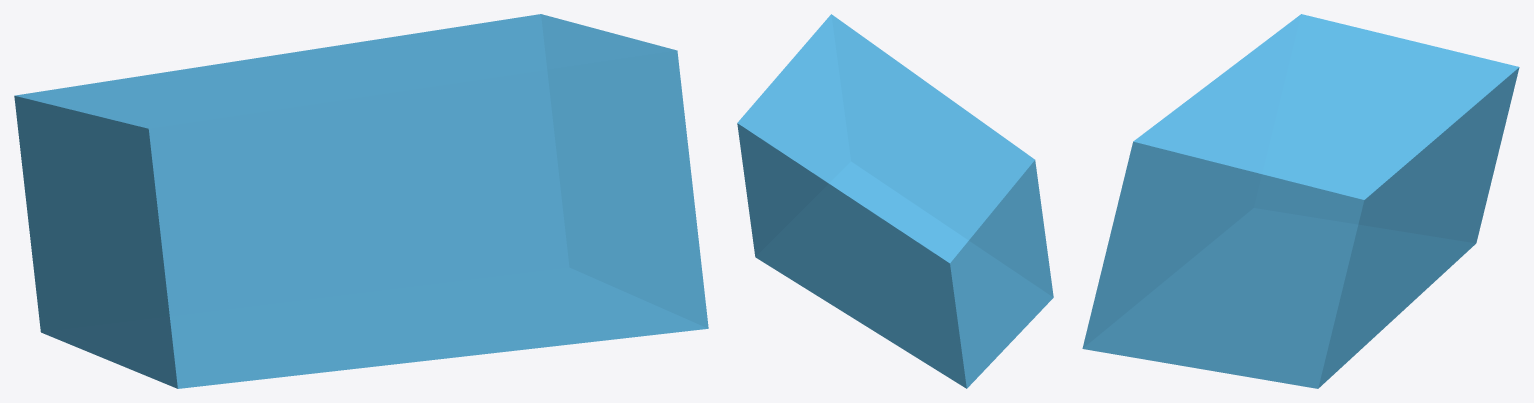
The model's file is Event_420604493_HErechit_40.fbx.
The picture shows the model from 3 angles, left to right: view 1: azimuth 30°, elevation 25°; view 2: azimuth 150°, elevation 25°; view 3: azimuth 270°, elevation 25°; orthographic projection. The views are drawn at different scales.
Visible parts, largest first — view 1: Model; view 2: Model; view 3: Model.
Boxes of the visible parts, x1=… form: Model: x1=14, y1=14, x2=708, y2=388; Model: x1=737, y1=14, x2=1053, y2=388; Model: x1=1082, y1=14, x2=1519, y2=388.
Size of the model in its own units: 0.7786 by 0.5746 by 0.8422.
